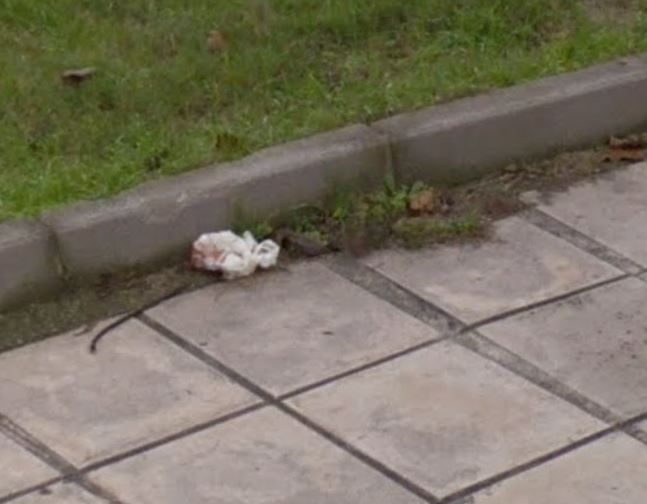trash: (176, 216, 306, 288)
